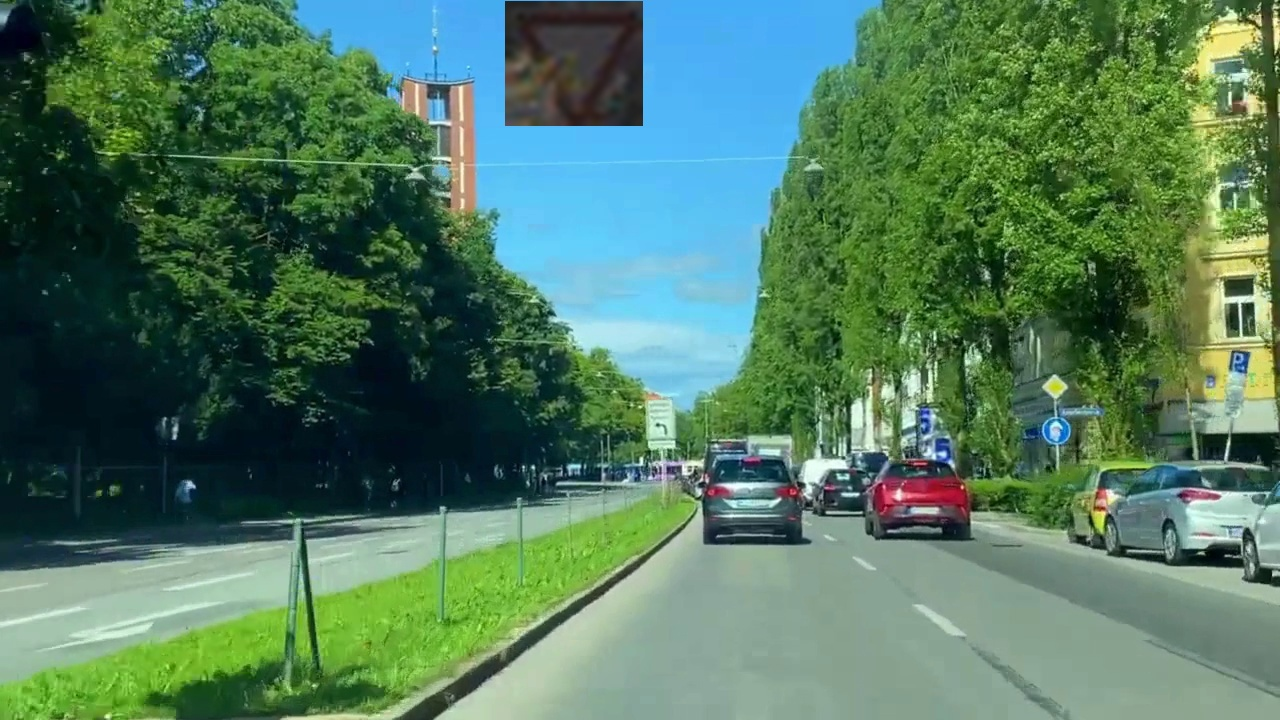Yield: (505, 1, 643, 126)
